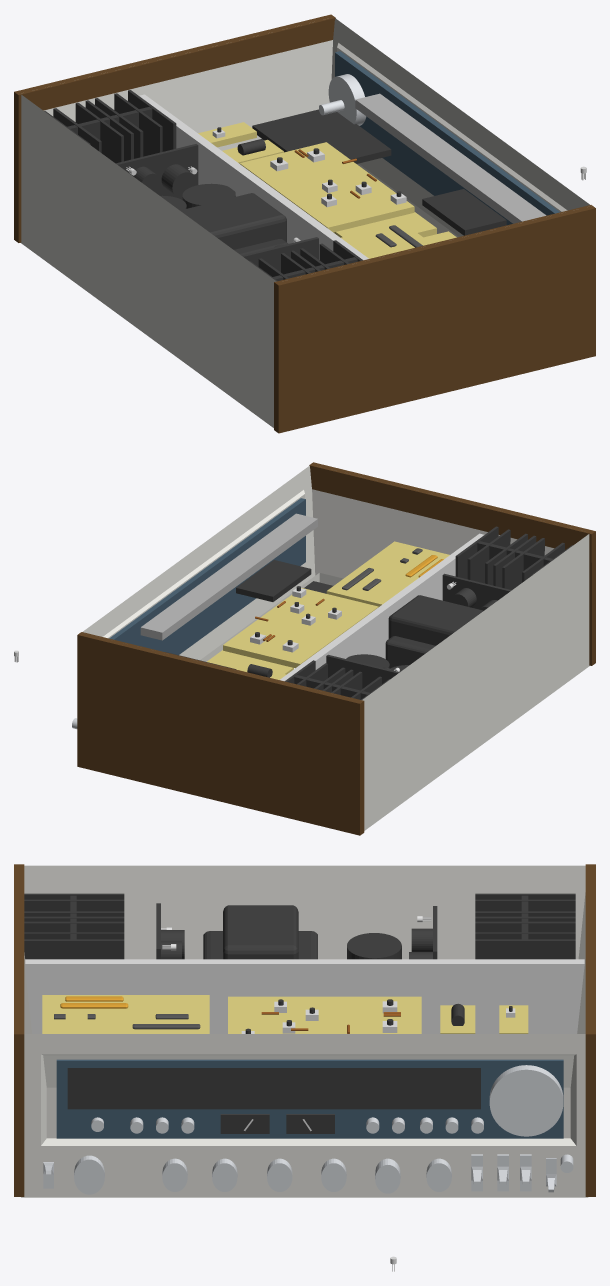
Rendered from Kenwood9400v0.glb.
The picture shows the model from 3 angles, top to bottom: view 1: azimuth 30°, elevation 25°; view 2: azimuth 150°, elevation 25°; view 3: azimuth 270°, elevation 25°; orthographic projection. The views are drawn at different scales.
Visible parts, largest first — view 1: Cube, Cube.003, Cube.004, if-unit, radio-faceplate, radio-faceplate.001, Cube.006, Cube.005, power-transformer, lever-sw-unit, main-amp-unit.001, tone-amp-unit.001 (+8 smaller); view 2: Cube, Cube.004, Cube.003, if-unit, radio-faceplate, radio-faceplate.001, Cube.009, Cube.005, power-transformer, rf-unit, Cube.006, tone-amp-unit.001 (+3 smaller); view 3: Cube, Cube.005, radio-panel, radio-faceplate, if-unit, Cube.006, Cube.009, rf-unit, power-transformer, tuning-dial, Cube.003, Cube.004 (+14 smaller).
Part boxes in pixels (bbox=[...]): Cube: bbox=[20, 18, 589, 427]; Cube.003: bbox=[274, 205, 595, 433]; Cube.004: bbox=[14, 14, 335, 242]; if-unit: bbox=[239, 142, 414, 232]; radio-faceplate: bbox=[335, 51, 559, 225]; radio-faceplate.001: bbox=[355, 93, 546, 223]; Cube.006: bbox=[44, 90, 176, 163]; Cube.005: bbox=[139, 94, 368, 260]; power-transformer: bbox=[180, 193, 288, 255]; lever-sw-unit: bbox=[252, 109, 391, 163]; main-amp-unit.001: bbox=[116, 144, 198, 199]; tone-amp-unit.001: bbox=[422, 189, 506, 235]; Cube: bbox=[83, 465, 589, 830]; Cube.004: bbox=[77, 632, 364, 835]; Cube.003: bbox=[309, 462, 595, 665]; if-unit: bbox=[223, 586, 378, 668]; radio-faceplate: bbox=[109, 498, 305, 654]; radio-faceplate.001: bbox=[140, 513, 317, 640]; Cube.009: bbox=[455, 526, 572, 589]; Cube.005: bbox=[280, 533, 484, 681]; power-transformer: bbox=[385, 595, 483, 668]; rf-unit: bbox=[326, 541, 449, 606]; Cube.006: bbox=[285, 660, 390, 700]; tone-amp-unit.001: bbox=[236, 560, 311, 601]; Cube: bbox=[21, 865, 588, 1197]; Cube.005: bbox=[25, 959, 584, 1033]; radio-panel: bbox=[67, 1068, 480, 1109]; radio-faceplate: bbox=[56, 1059, 563, 1138]; if-unit: bbox=[228, 996, 421, 1033]; Cube.006: bbox=[475, 893, 575, 959]; Cube.009: bbox=[24, 893, 124, 959]; rf-unit: bbox=[42, 995, 209, 1033]; power-transformer: bbox=[203, 905, 317, 959]; tuning-dial: bbox=[489, 1065, 563, 1136]; Cube.003: bbox=[14, 864, 24, 1196]; Cube.004: bbox=[585, 864, 595, 1196].
Bounding box in the file's own units: 50 × 14.82 × 47.75.
